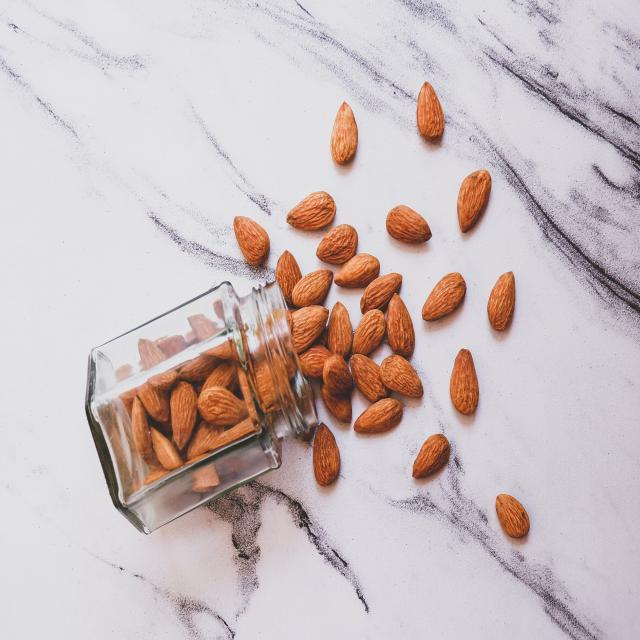almond: (455, 170, 491, 233), (421, 272, 467, 320), (286, 191, 337, 232), (231, 215, 271, 267), (450, 349, 480, 415), (348, 355, 391, 401), (381, 353, 424, 398), (289, 306, 330, 353), (312, 423, 341, 487), (351, 308, 386, 360), (493, 492, 530, 540), (353, 398, 402, 434), (361, 271, 404, 312), (316, 224, 359, 265), (409, 434, 449, 478), (388, 293, 415, 357), (331, 101, 357, 166), (292, 268, 335, 306), (488, 271, 515, 331), (416, 82, 444, 138), (386, 206, 432, 240), (334, 254, 378, 288), (275, 252, 301, 307), (328, 303, 353, 355)
